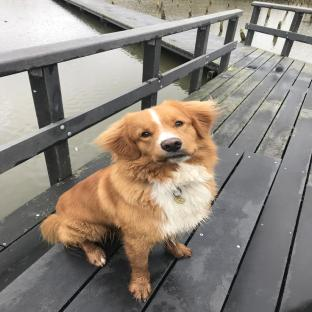Animal: (41, 99, 218, 300)
